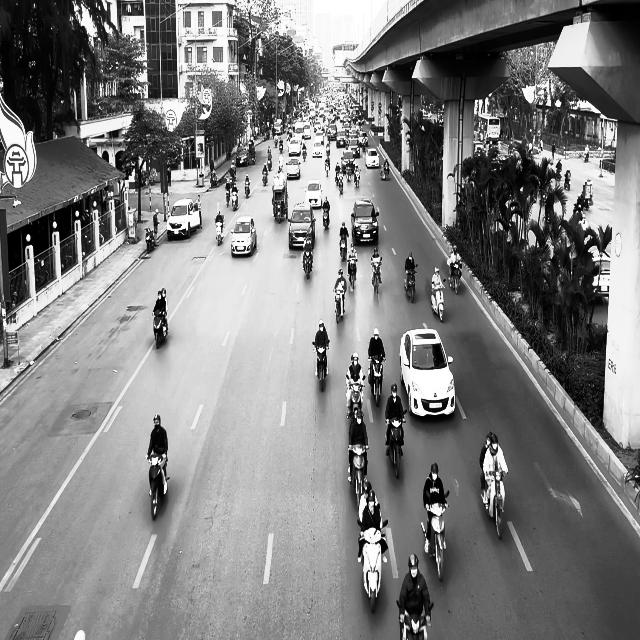bus: (477, 113, 505, 144)
car: (399, 328, 455, 418), (166, 198, 200, 240), (351, 197, 379, 244), (288, 202, 315, 250), (231, 216, 256, 257), (304, 180, 323, 208), (286, 156, 301, 179), (365, 148, 379, 168), (236, 147, 248, 166)
motorbike: (357, 520, 388, 612), (420, 490, 450, 580), (480, 470, 506, 540), (146, 452, 170, 520), (396, 599, 434, 640), (385, 412, 406, 479), (348, 443, 368, 508), (312, 341, 329, 392), (368, 355, 385, 406), (346, 376, 365, 420), (430, 280, 446, 322), (152, 309, 168, 349), (404, 263, 418, 303), (448, 260, 462, 294), (333, 287, 345, 323), (371, 258, 382, 294), (302, 247, 313, 279), (347, 258, 357, 290), (144, 227, 155, 252), (215, 218, 224, 246), (339, 234, 347, 260), (322, 206, 330, 230), (231, 188, 238, 210), (226, 185, 232, 207), (244, 180, 251, 198)
